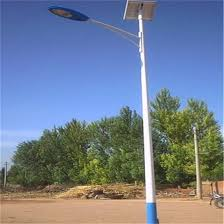light_pole: (126, 7, 162, 224)
